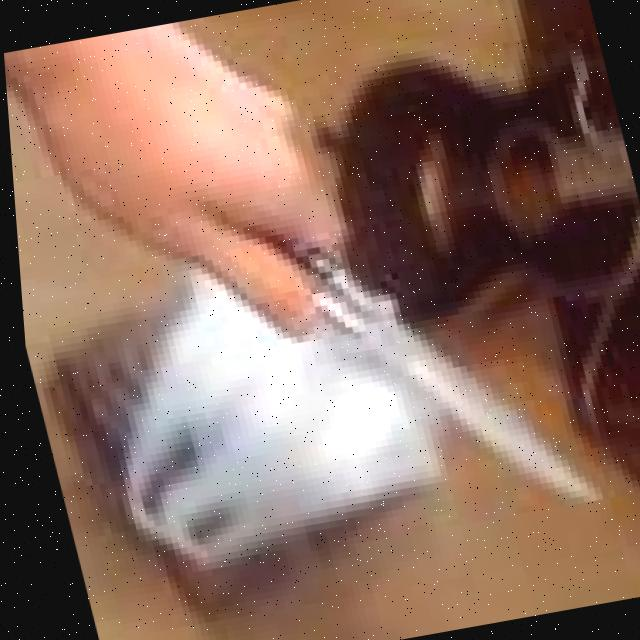knife: (284, 208, 605, 544)
